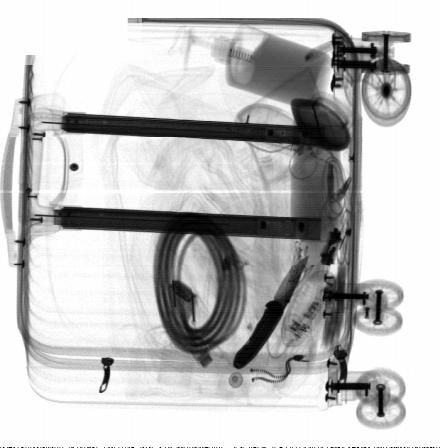Knife: (233, 254, 308, 369)
